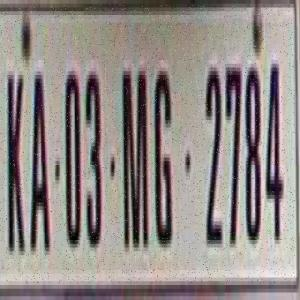Plate: (0, 5, 295, 283)
